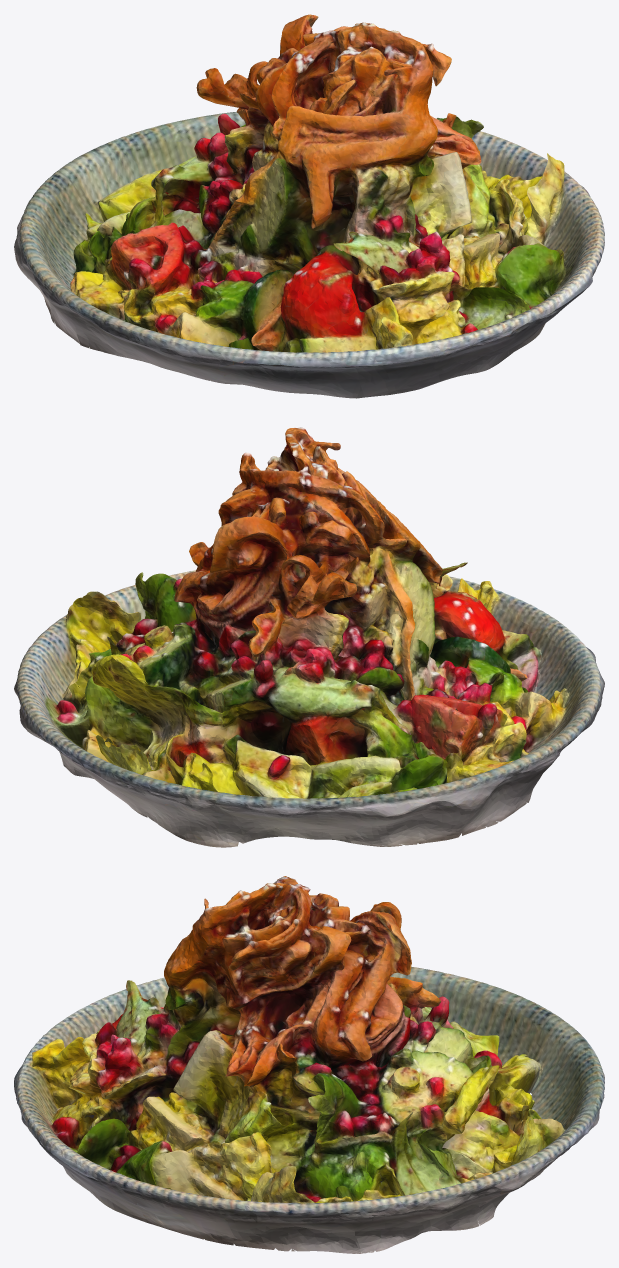
Rendered from fattoush.glb.
3 views of the same model, one above another, from view 1: azimuth 30°, elevation 25°; view 2: azimuth 150°, elevation 25°; view 3: azimuth 270°, elevation 25° (orthographic).
Bounding box in the file's own units: 0.2049 × 0.1068 × 0.2054.
Materials: 1 (1 with a texture image).
